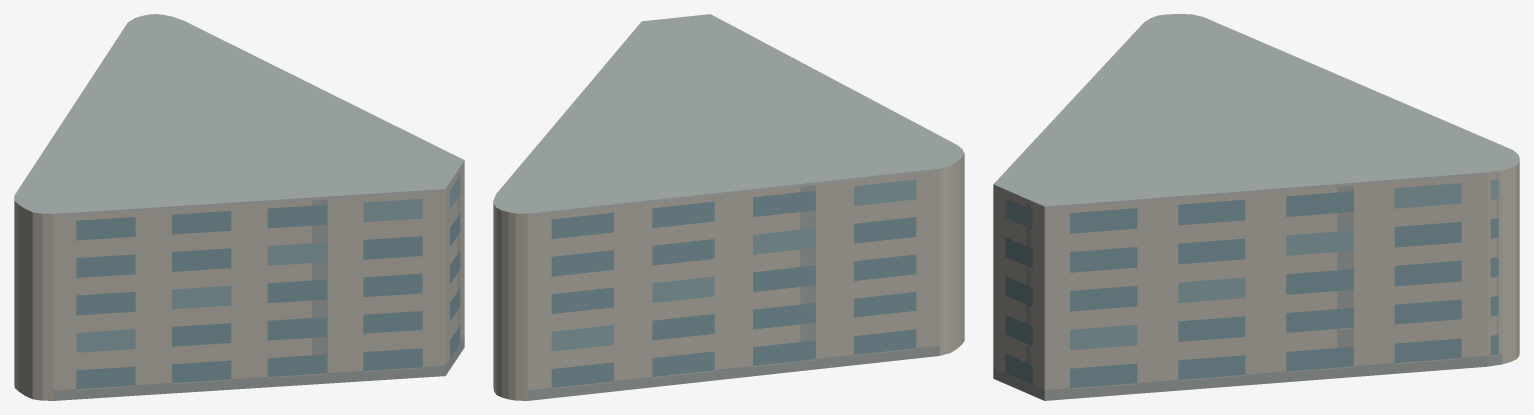
Rendered from survey-upis-32782676.glb.
3 renders of one model, left to right at view 1: azimuth 30°, elevation 25°; view 2: azimuth 150°, elevation 25°; view 3: azimuth 270°, elevation 25°, orthographic. The views are drawn at different scales.
Visible parts, largest first — view 1: survey-upis-32782676.tmp; view 2: survey-upis-32782676.tmp; view 3: survey-upis-32782676.tmp.
Part boxes in pixels (x1,y1,x2,y2): survey-upis-32782676.tmp: (14, 14, 464, 400); survey-upis-32782676.tmp: (493, 14, 964, 400); survey-upis-32782676.tmp: (993, 14, 1519, 400).
Size of the model in its own units: 32.42 by 15.25 by 37.43.
